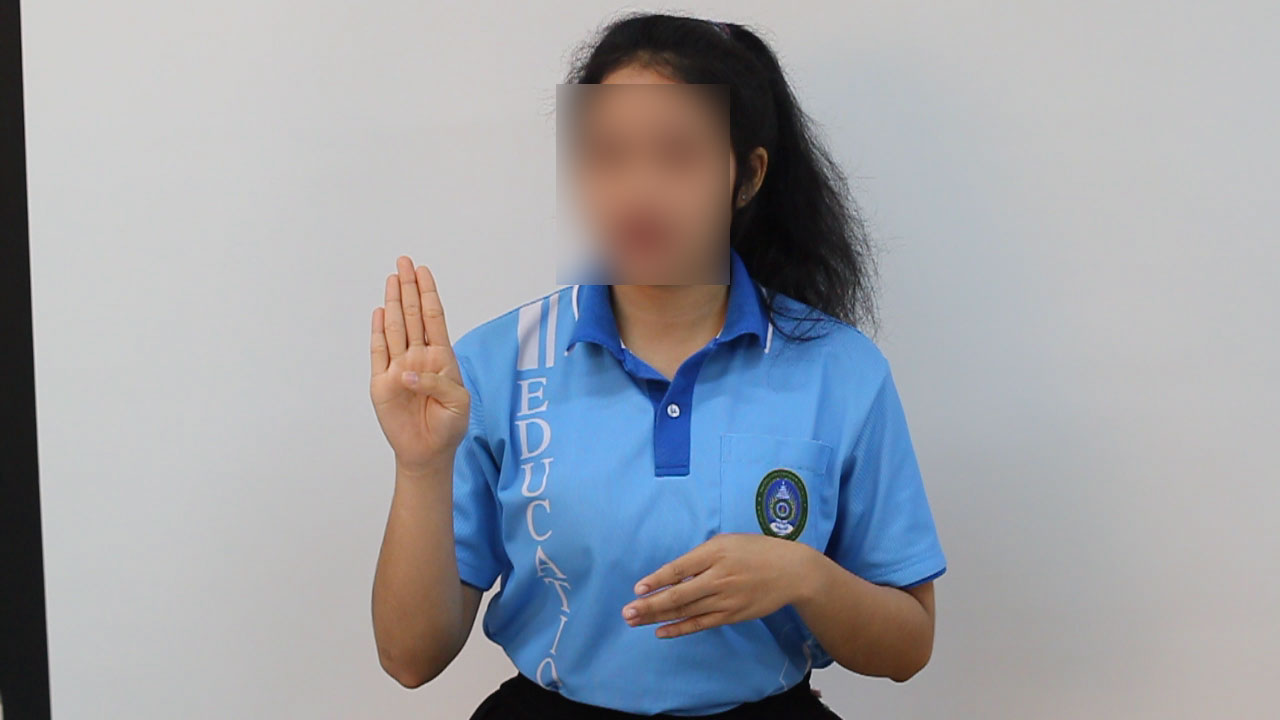bor: (351, 240, 490, 494)
